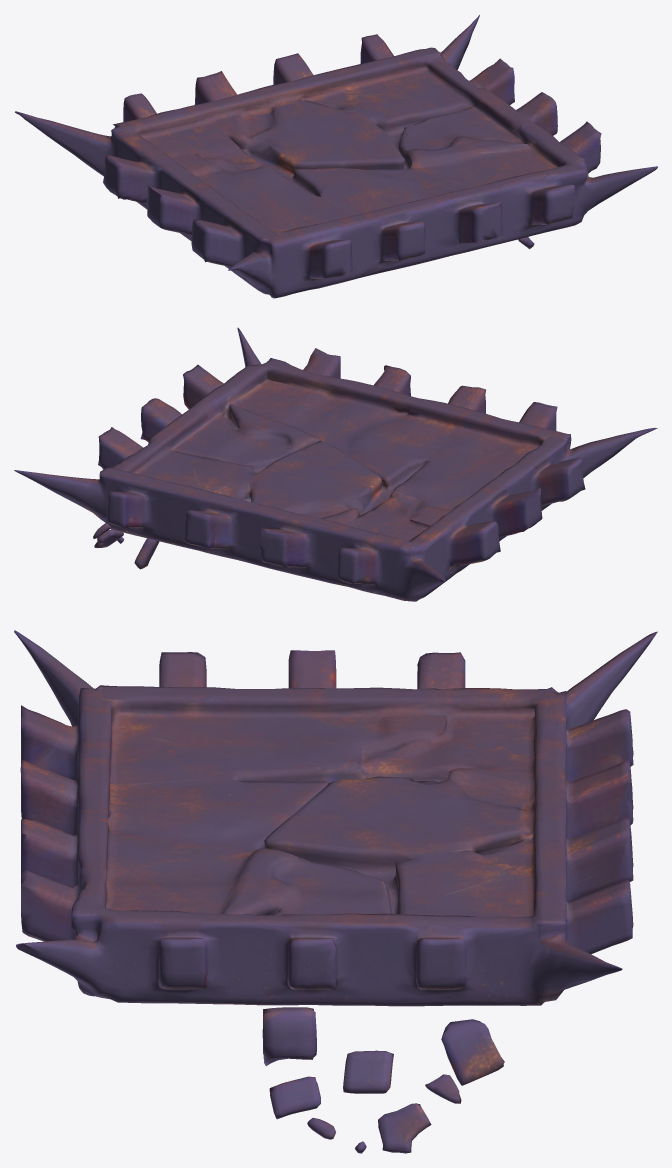
Rendered from FalsePlataformUE.fbx.
3 renders of one model, top to bottom at view 1: azimuth 30°, elevation 25°; view 2: azimuth 150°, elevation 25°; view 3: azimuth 270°, elevation 25°, orthographic. The views are drawn at different scales.
Visible parts, largest first — view 1: tripo_node_d9f85610; view 2: tripo_node_d9f85610; view 3: tripo_node_d9f85610.
Part boxes in pixels (left/top/right/bottom): tripo_node_d9f85610: left=15, top=15, right=657, bottom=298; tripo_node_d9f85610: left=14, top=327, right=657, bottom=601; tripo_node_d9f85610: left=14, top=630, right=657, bottom=1153.
Size of the model in its own units: 99.27 by 29.14 by 81.5.
Materials: 1 (1 with a texture image).
